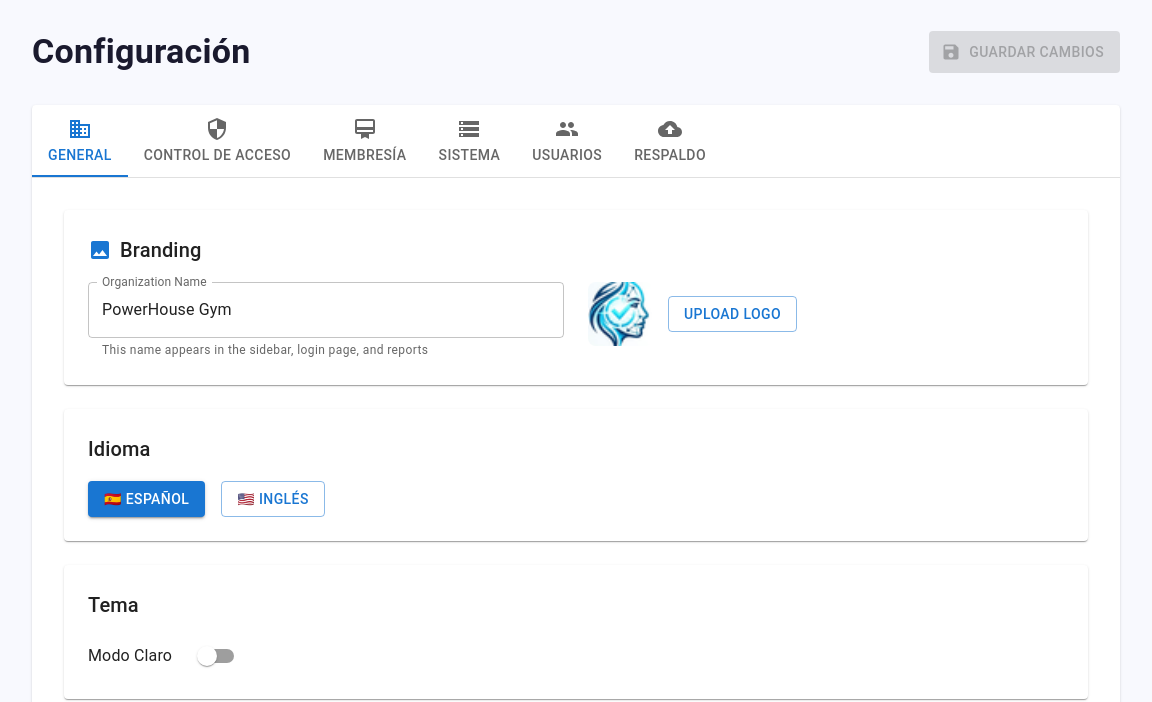
Settings — Backup tab (remote backup config) › admin: editing a field disables Test with a "save first" hint (probe targets the saved config)
Step 1. Click the tab "Respaldo" → (670, 141), box [618, 105, 722, 177]
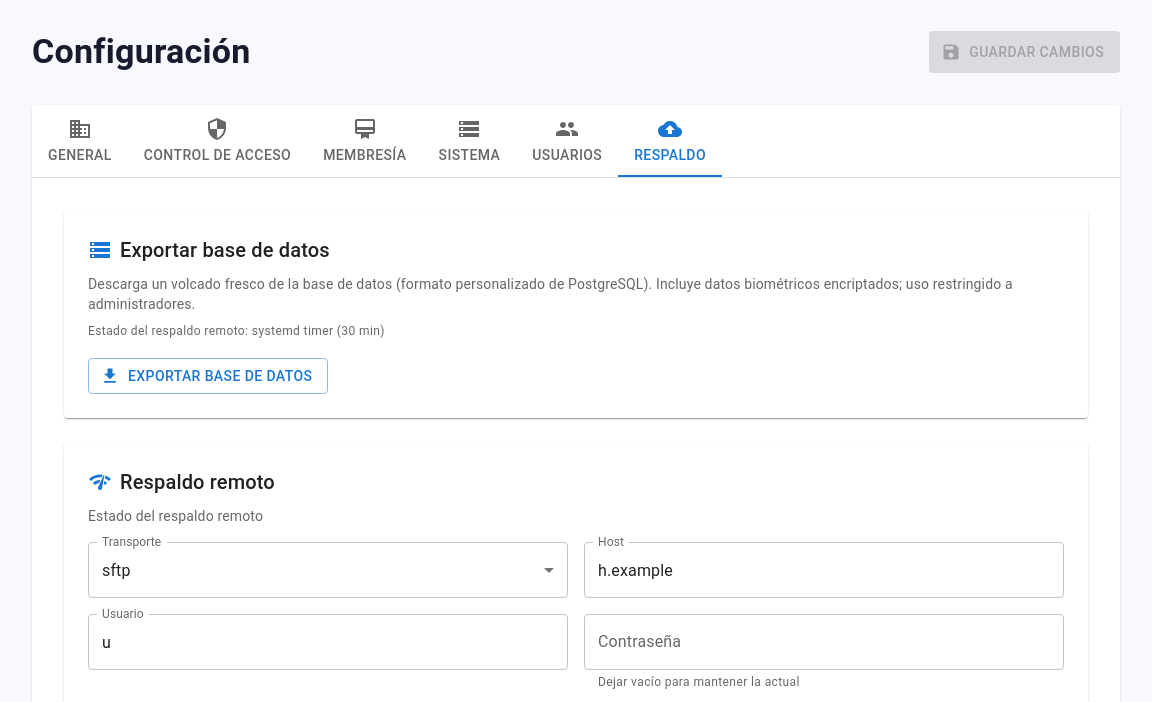
Step 2. Type "2" into the field labelled "Host" → (824, 570), box [584, 542, 1064, 598]
(page scrolled)
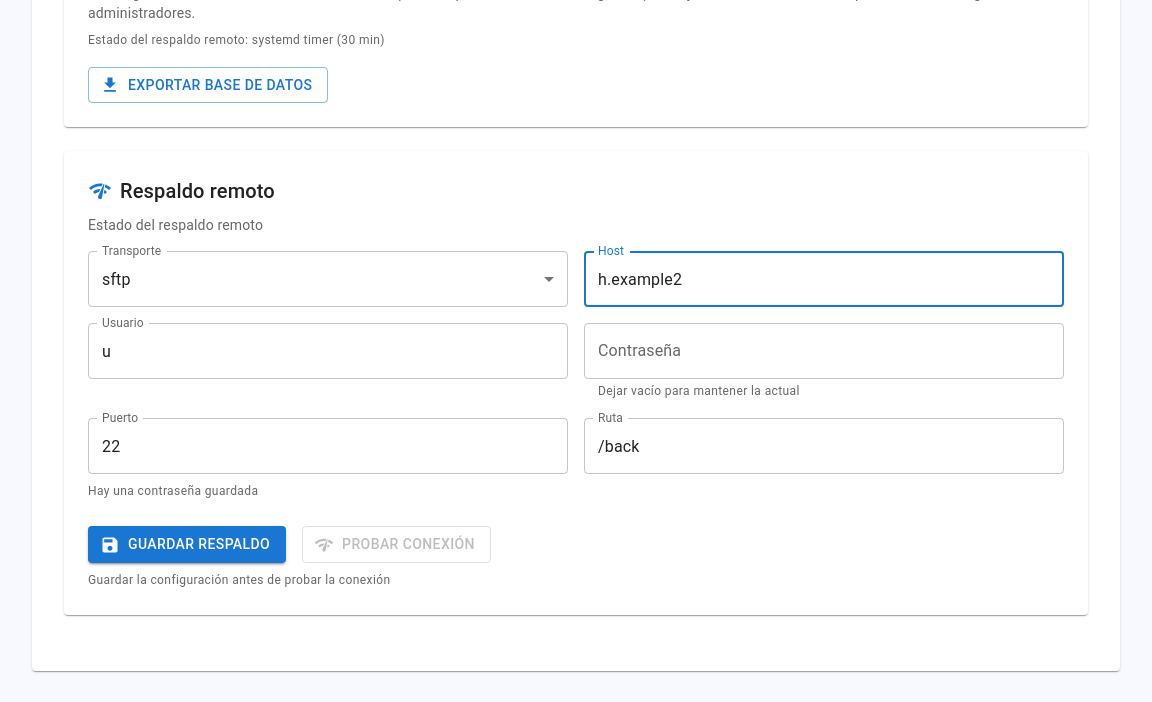
Now the button "Probar conexión" is disabled, box [302, 526, 491, 563]
Now the text "Guardar la configuración antes de probar la conexión" is shown, box [88, 573, 390, 587]
